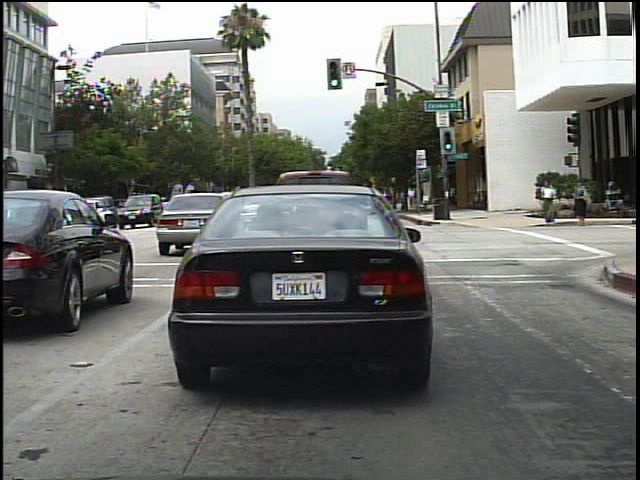person: (568, 175, 594, 229), (537, 176, 563, 230), (402, 185, 420, 217)
